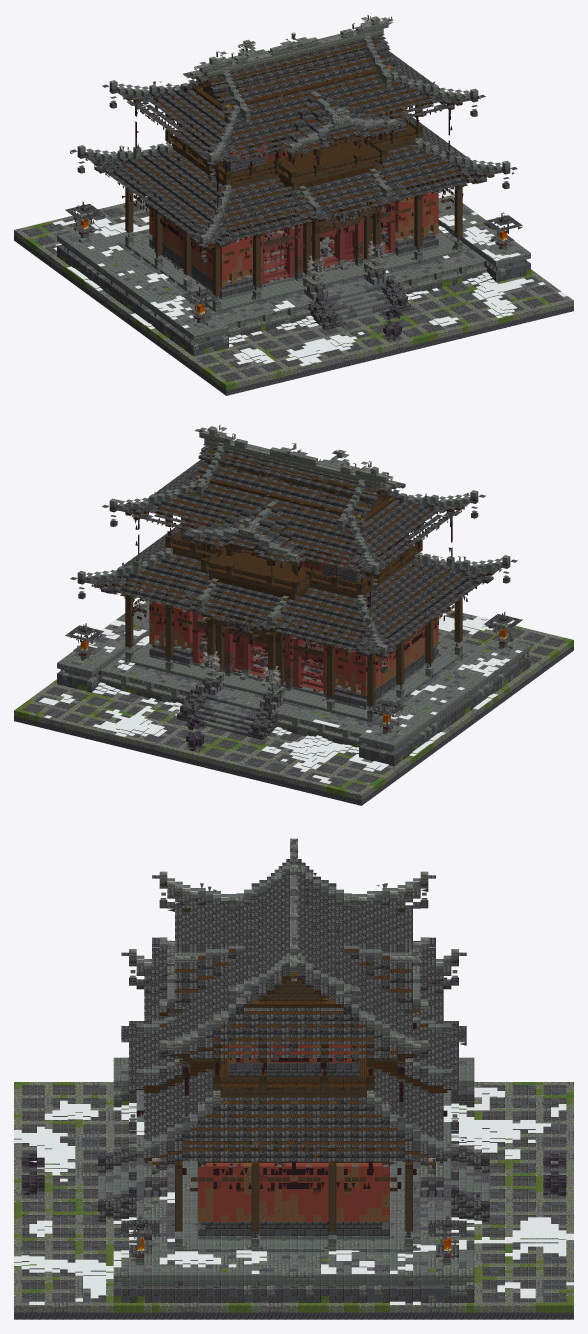
File: temple.glb
The picture shows the model from 3 angles, top to bottom: view 1: azimuth 30°, elevation 25°; view 2: azimuth 150°, elevation 25°; view 3: azimuth 270°, elevation 25°; orthographic projection. The views are drawn at different scales.
Visible parts, largest first — view 1: temple__0; view 2: temple__0; view 3: temple__0.
Part boxes in pixels (x1,y1,x2,y2): temple__0: (14,15,573,395); temple__0: (14,425,573,805); temple__0: (14,838,573,1319).
Size of the model in its own units: 34.5 by 23 by 36.5.
1 material, 1 textured.
